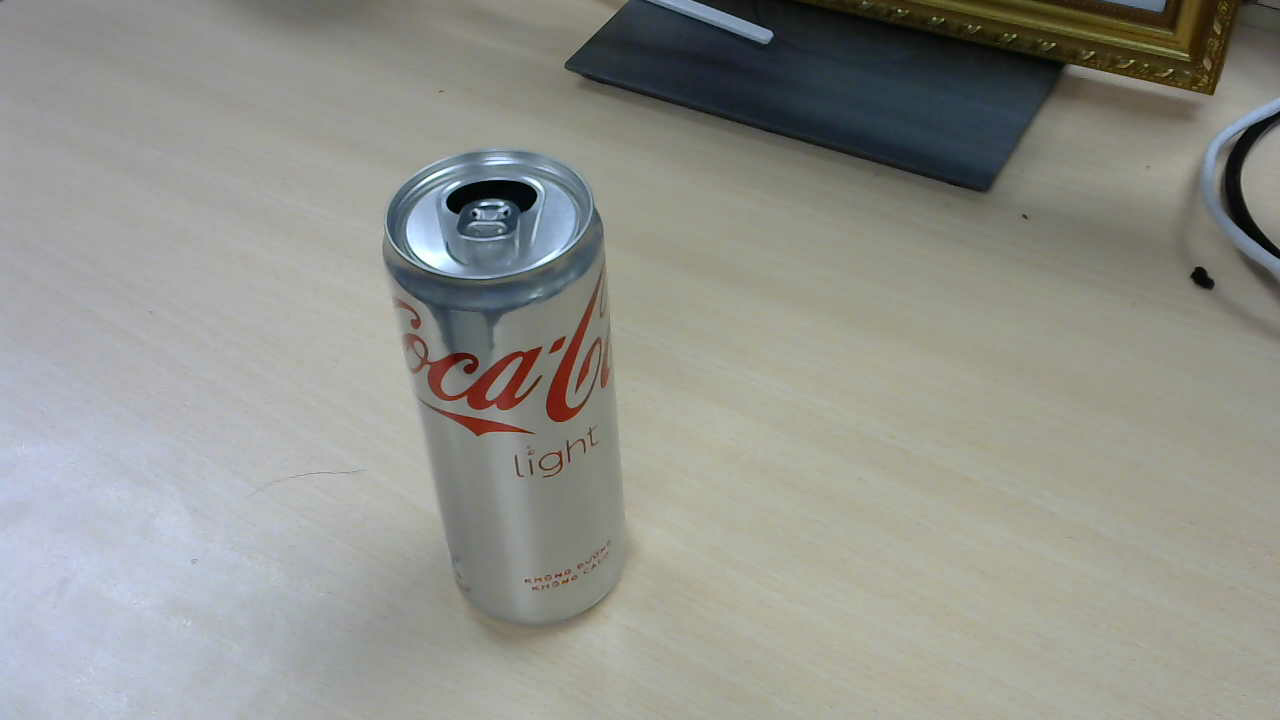Coca_Cola: (385, 153, 638, 638)
